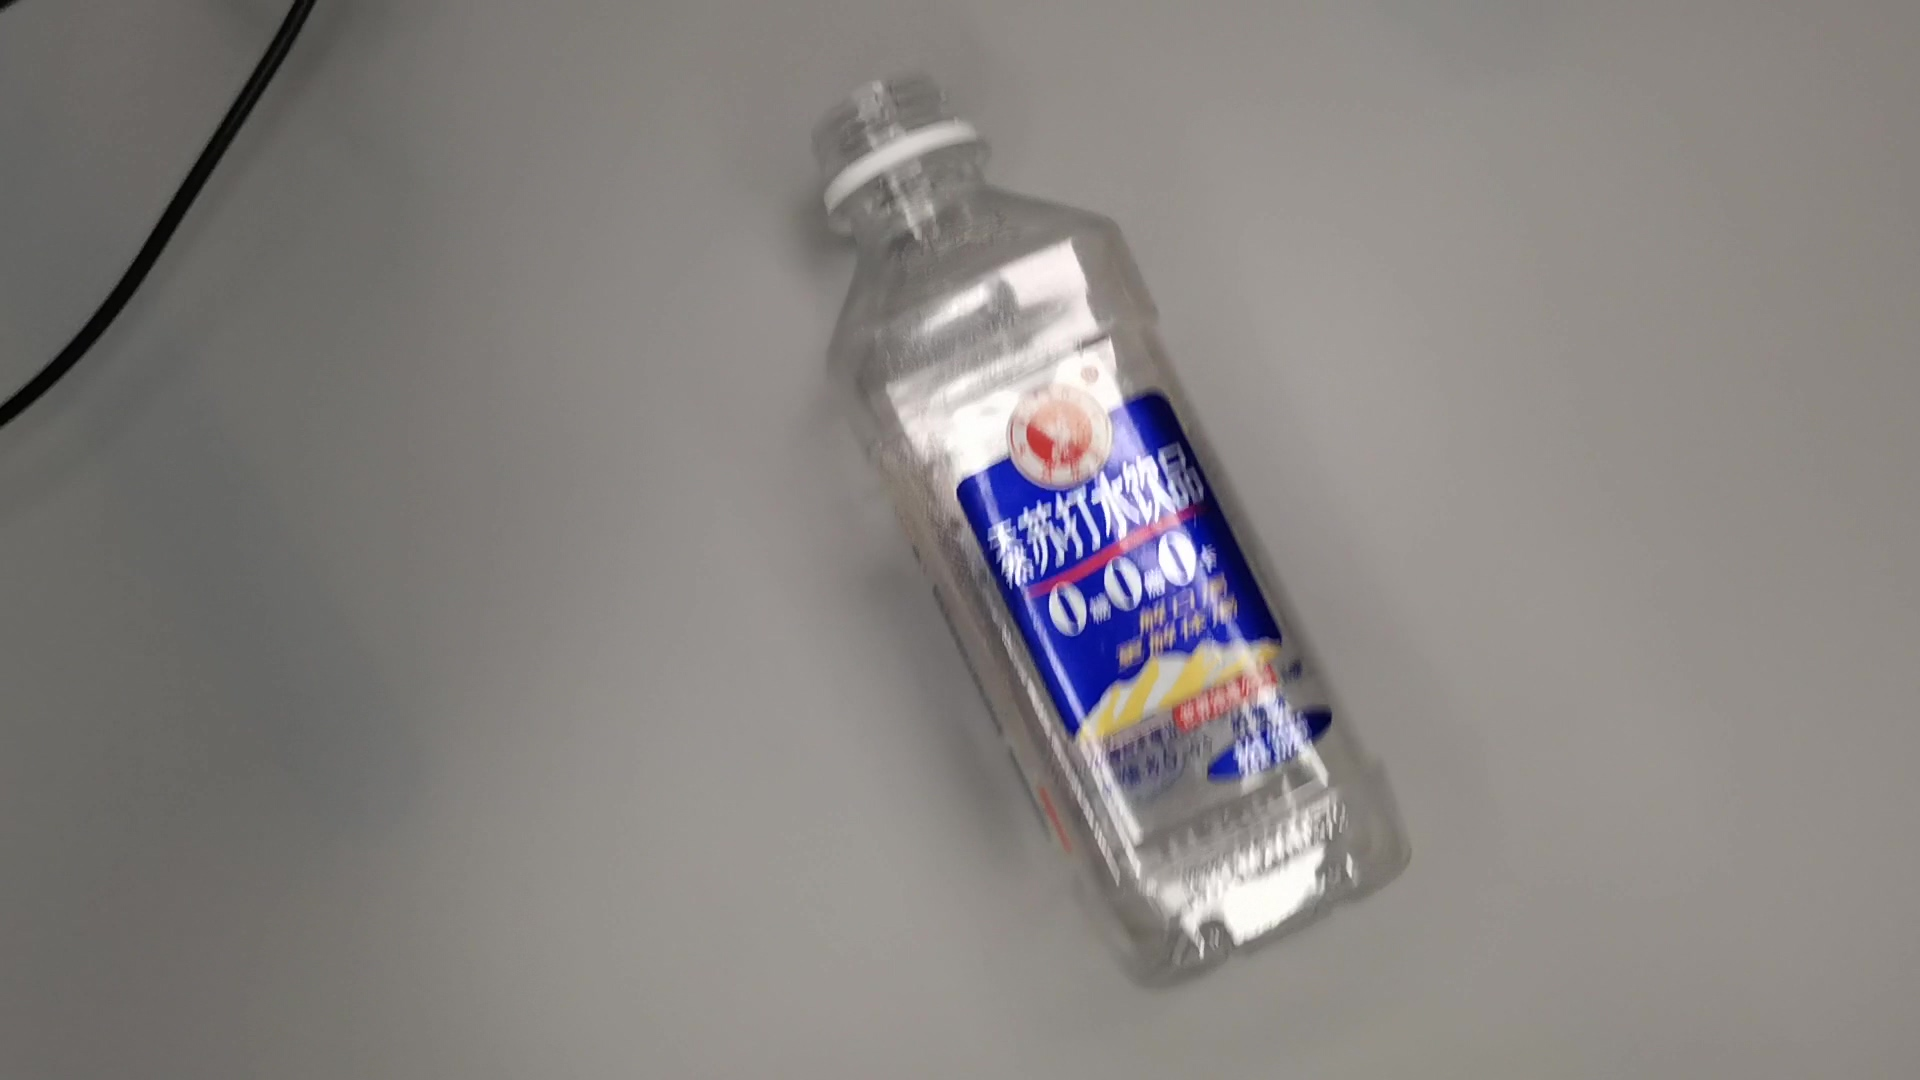bottle: (795, 69, 1428, 992)
